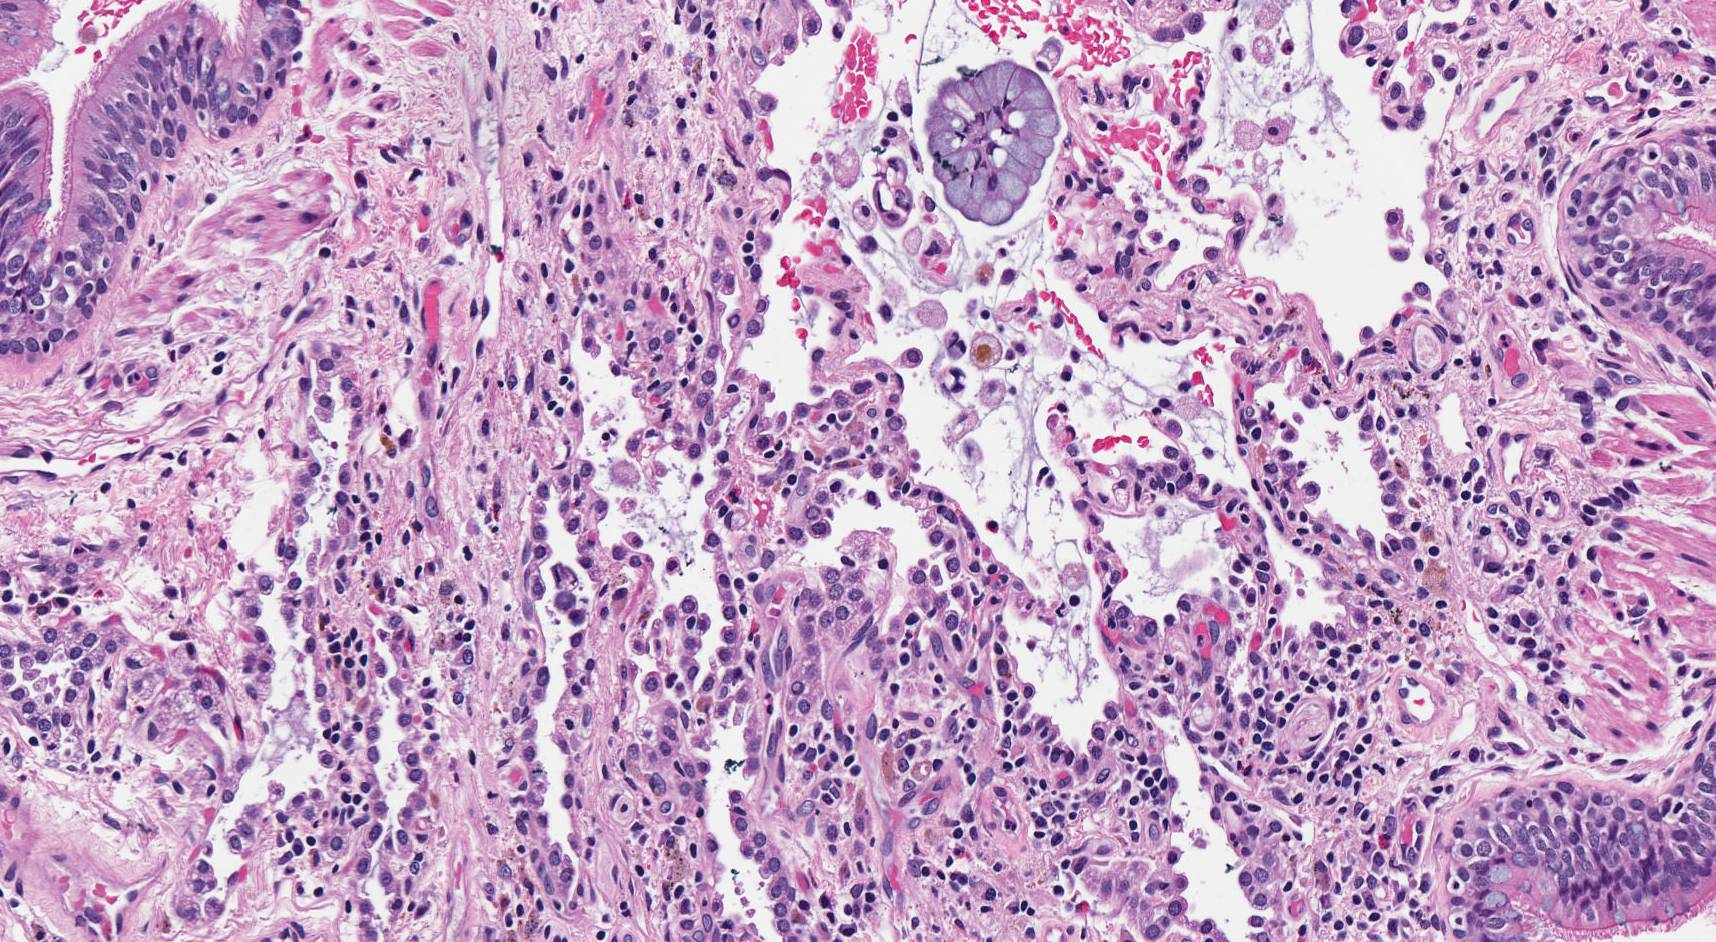stas: (923, 60, 1062, 228)
